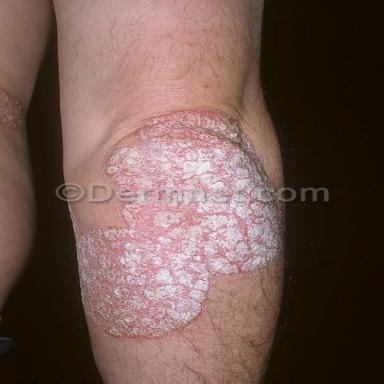Psoriasis: (70, 201, 285, 344), (102, 107, 274, 188)
